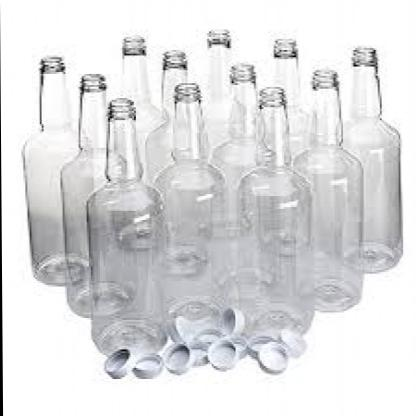Plastic: (3, 32, 404, 340)
